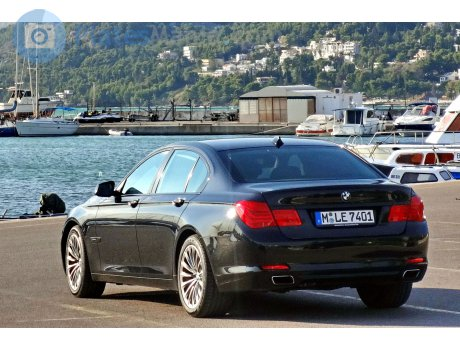License Plates: (320, 211, 374, 219)
